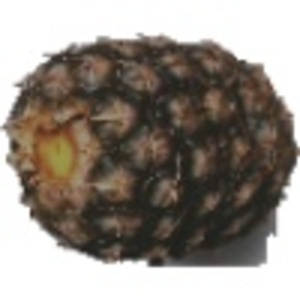abacaxi: (3, 27, 286, 261)
